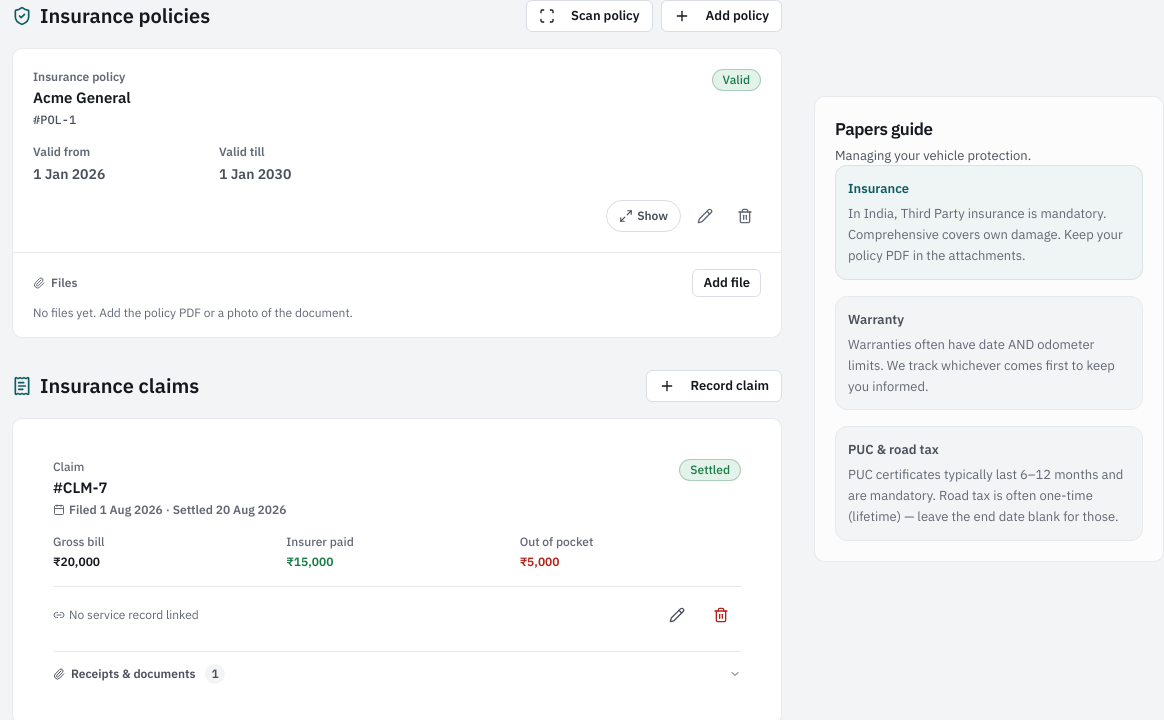
ProtectionTab roles › keeps receipt management for an editor
The image size is (1164, 720).
Click the button "Receipts & documents 1" at (133, 673), box [53,664,741,684]
(page scrolled)
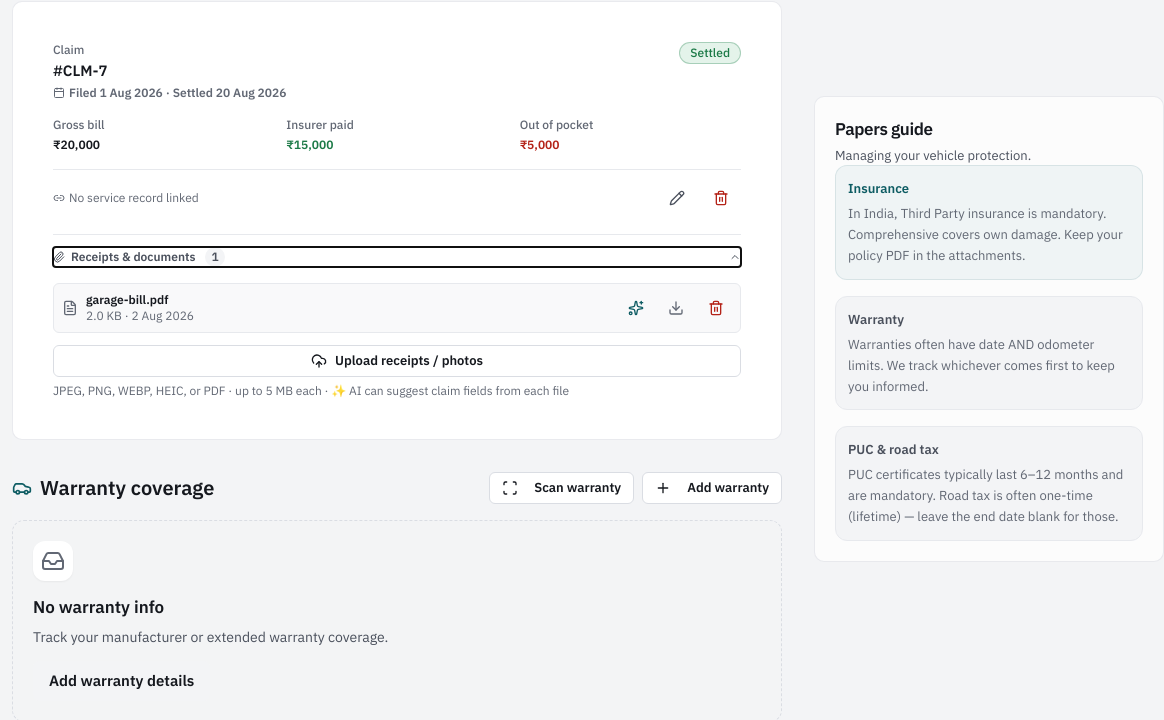
Expected: the button named "Delete attachment" is shown, [700,292,732,324]
Expected: the button named "Extract claim fields" is shown, [620,292,652,324]
Expected: the button "Upload receipts / photos" is shown, [53,344,741,376]
